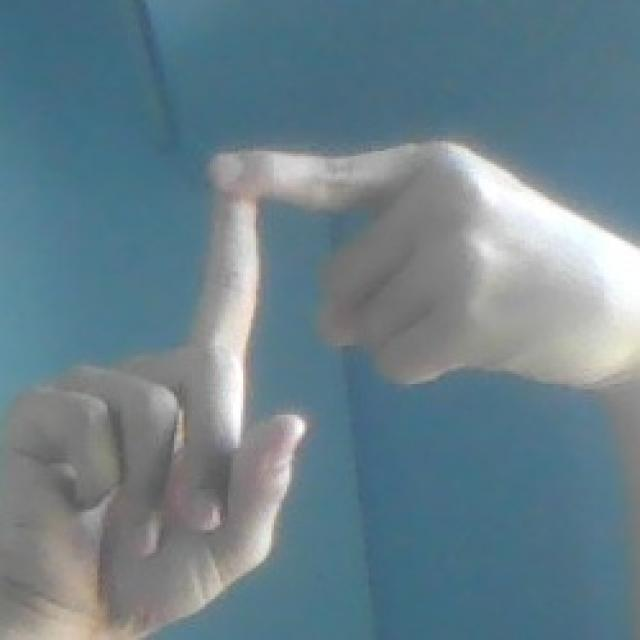Alphabet-E: (0, 143, 640, 640)
